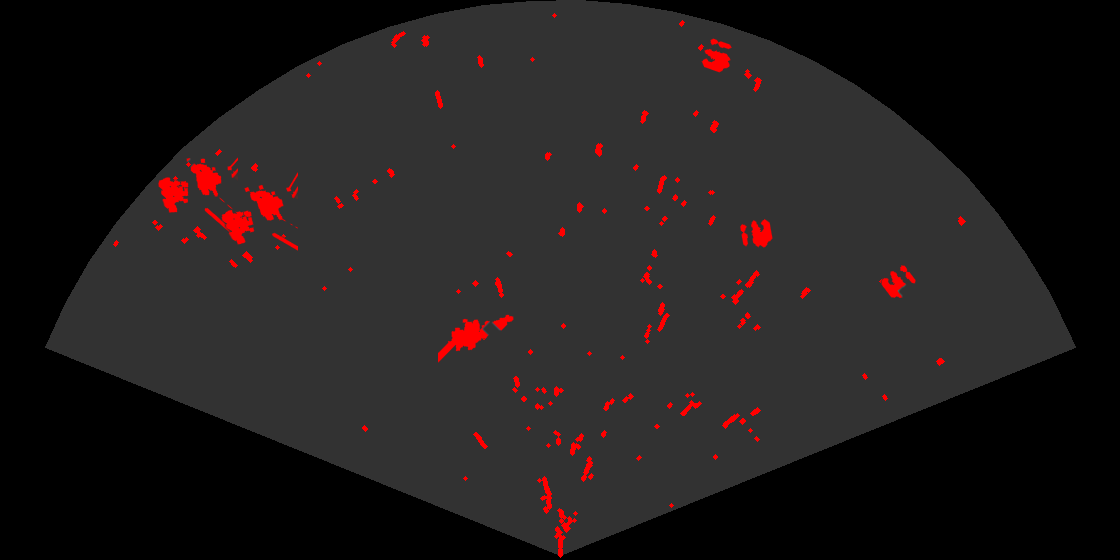ball: (880, 264, 917, 300), (700, 37, 733, 74), (739, 217, 774, 249)
cage: (157, 156, 238, 236), (220, 171, 298, 252)
frogman: (438, 313, 515, 364)
